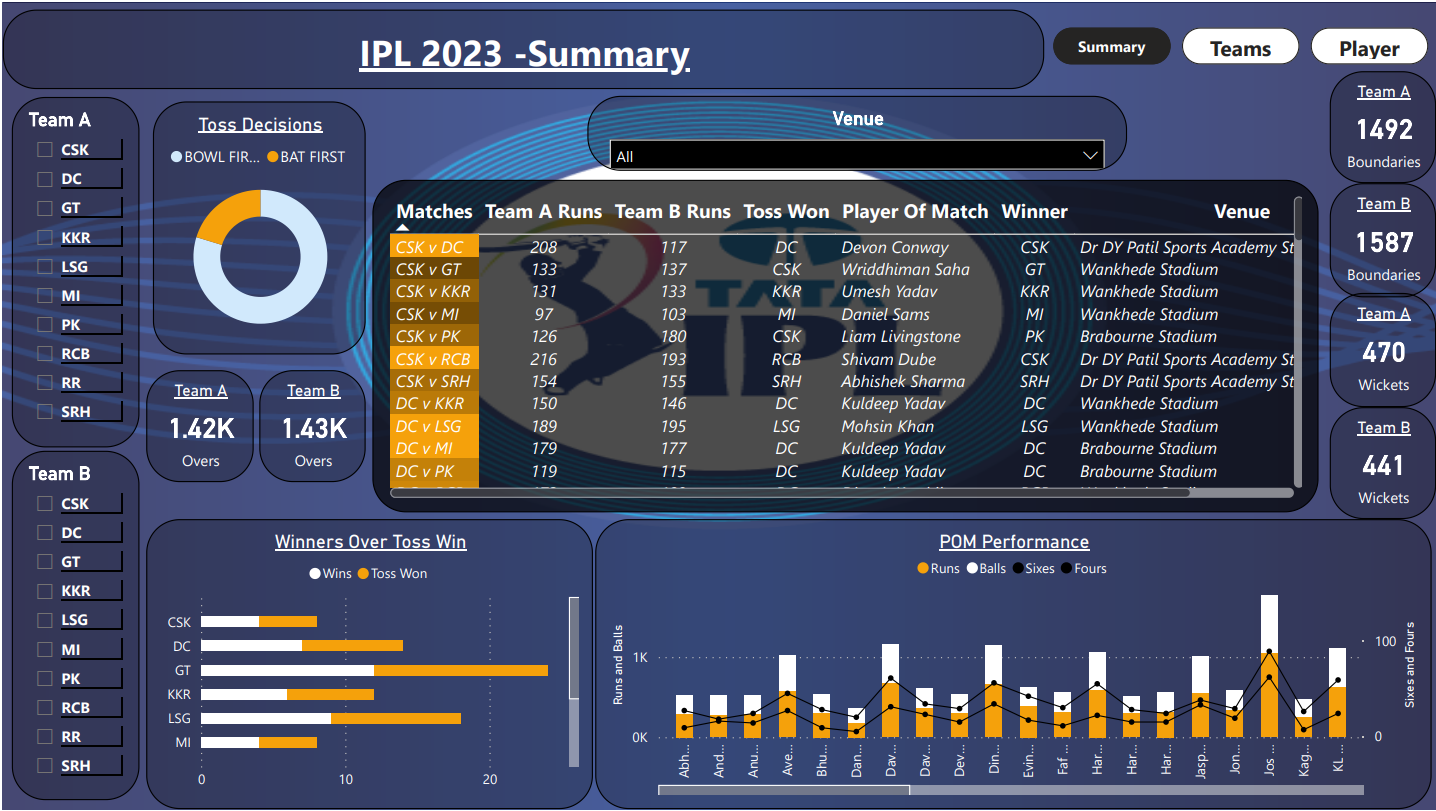

Layout of this report page (visuals, bound fields, positions):
{"tool":"powerbi","page":{"name":"Summary","canvas":[1280,720],"ordinal":0},"visuals":[{"type":"slicer","title":"Team A","fields":{"Values":["03SeasonSummary.HomeTeam"]},"box":[8.4,84.4,113.4,312.4],"z":0},{"type":"slicer","title":"Team B","fields":{"Values":["03SeasonSummary.AwayTeam"]},"box":[8.4,400.4,113.4,311.2],"z":1000},{"type":"slicer","title":"Venue","fields":{"Values":["03SeasonSummary.VenueName"]},"box":[522,83.1,481.6,67.2],"z":2000},{"type":"lineStackedColumnComboChart","title":"POM Performance","fields":{"Category":["03SeasonSummary.PlayerOfMatch"],"Y":["04BattingSummary.Runs","04BattingSummary.BallsFaced"],"Y2":["04BattingSummary.Sixes","04BattingSummary.Fours"]},"box":[529.4,460.7,746.5,259.3],"z":3000},{"type":"tableEx","fields":{"Values":["03SeasonSummary.ShortName","03SeasonSummary.HomeRuns","03SeasonSummary.AwayRuns","03SeasonSummary.TossWon","03SeasonSummary.PlayerOfMatch","03SeasonSummary.Winner","03SeasonSummary.VenueName"]},"box":[330.1,157.7,844.7,297],"z":4000},{"type":"barChart","title":"Winners Over Toss Win","fields":{"Category":["03SeasonSummary.Winner"],"Y":["03SeasonSummary.Winner","03SeasonSummary.TossWon"]},"box":[127.8,460.7,399.2,259.3],"z":5000},{"type":"donutChart","title":"Toss Decisions","fields":{"Y":["03SeasonSummary.Decision"],"Category":["03SeasonSummary.Decision"]},"box":[134.5,88,189.5,226.1],"z":6000},{"type":"card","title":"Team A","fields":{"Values":["03SeasonSummary.HomeOvers"]},"box":[127.8,328,96.5,100.1],"z":7000},{"type":"card","title":"Team B","fields":{"Values":["03SeasonSummary.AwayOvers"]},"box":[228.6,327.6,95.3,100.2],"z":8000},{"type":"card","title":"Team B","fields":{"Values":["03SeasonSummary.AwayBoundaries"]},"box":[1184.5,161.4,95.3,101.5],"z":9000},{"type":"card","title":"Team A","fields":{"Values":["03SeasonSummary.HomeBoundaries"]},"box":[1184.5,61.1,95.3,100.2],"z":10000},{"type":"card","title":"Team A","fields":{"Values":["03SeasonSummary.HomeWickets"]},"box":[1184.5,259.2,95.3,101.5],"z":11000},{"type":"card","title":"Team B","fields":{"Values":["03SeasonSummary.AwayWickets"]},"box":[1184.5,360.6,95.3,100.2],"z":12000},{"type":"textbox","box":[0,6.1,930.3,70.9],"z":13000},{"type":"pageNavigator","box":[938.3,21.7,335.3,33.8],"z":14000}]}

Visuals, with their boxes in screenshot pixels (x1, y1, x2, y2), scaled from the page's 1280x720 canvas onto the 1436x811 screenshot:
"Team A" slicer: (9,95,137,447)
"Team B" slicer: (9,451,137,802)
"Venue" slicer: (586,94,1126,169)
"POM Performance" lineStackedColumnComboChart: (594,519,1431,810)
tableEx - 03SeasonSummary.ShortName x 03SeasonSummary.HomeRuns: (370,178,1318,512)
"Winners Over Toss Win" barChart: (143,519,591,810)
"Toss Decisions" donutChart: (151,99,363,354)
"Team A" card: (143,369,252,482)
"Team B" card: (256,369,363,482)
"Team B" card: (1329,182,1435,296)
"Team A" card: (1329,69,1435,182)
"Team A" card: (1329,292,1435,406)
"Team B" card: (1329,406,1435,519)
textbox: (0,7,1044,87)
pageNavigator: (1053,24,1429,63)
